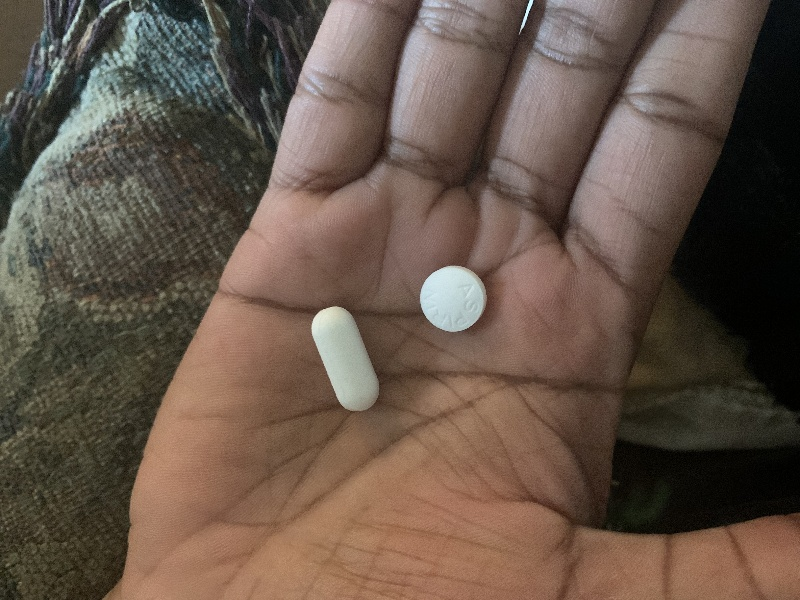Aspirin: (413, 263, 492, 337)
Tylenol: (302, 303, 387, 415)
